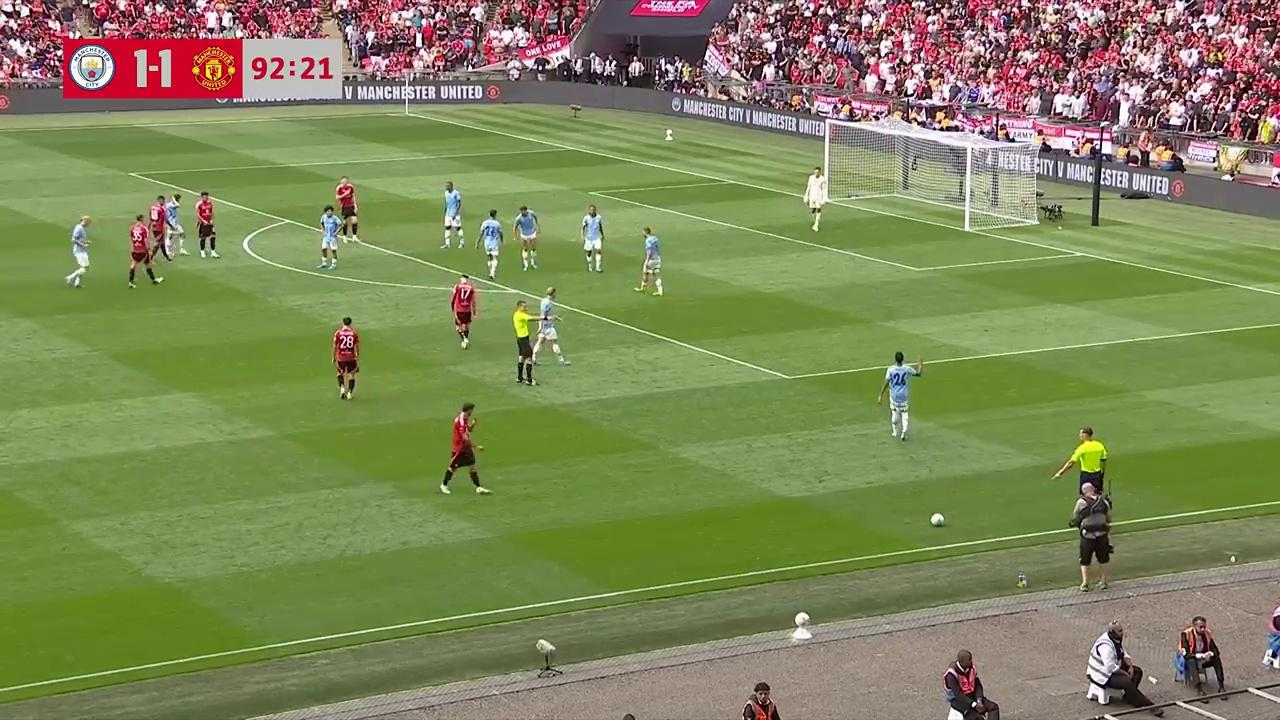ball: (930, 509, 945, 527), (73, 274, 82, 288)
player: (439, 403, 490, 495), (877, 351, 921, 442), (532, 287, 570, 365), (449, 274, 481, 350), (332, 317, 360, 400), (127, 215, 158, 289), (66, 216, 94, 288), (477, 209, 504, 281), (635, 226, 663, 295), (145, 199, 173, 265), (334, 176, 360, 243), (440, 181, 465, 250), (513, 204, 539, 270), (193, 190, 218, 258), (581, 205, 605, 272), (317, 204, 340, 270), (1261, 596, 1280, 672), (166, 190, 188, 254), (803, 167, 823, 232)
referee: (510, 299, 541, 388), (1068, 425, 1108, 488)
